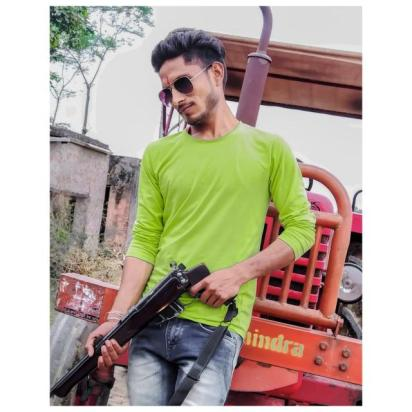Gun: (50, 260, 239, 399)
